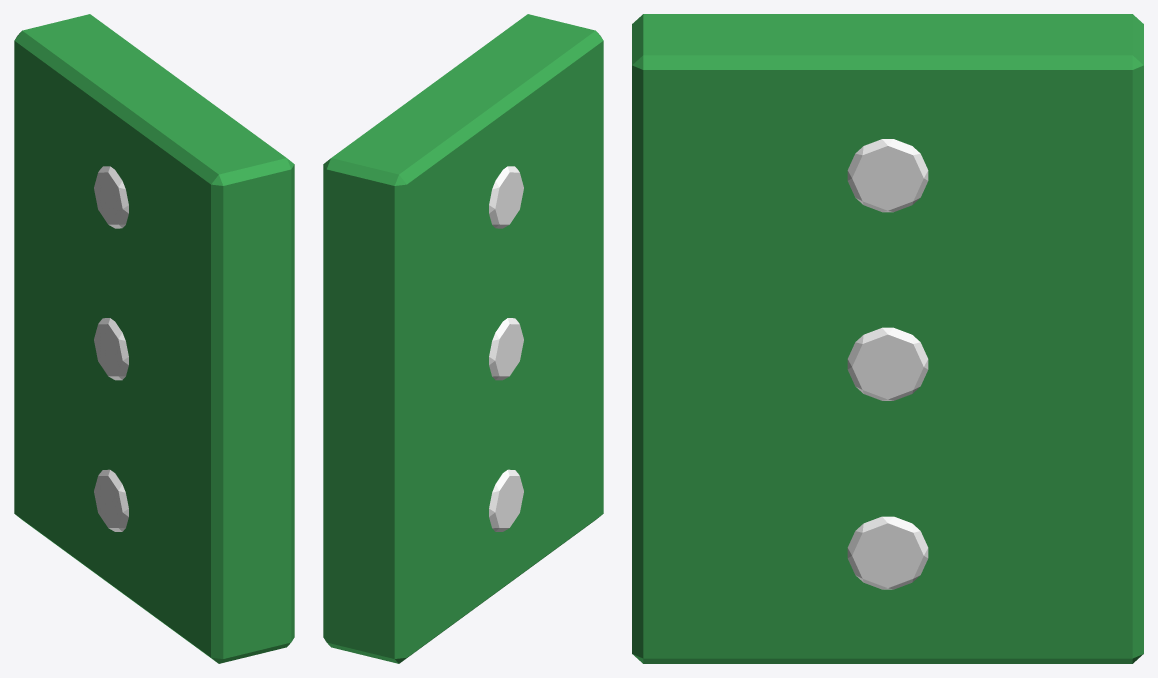
File: domino_wide.glb
The picture shows the model from 3 angles, left to right: view 1: azimuth 30°, elevation 25°; view 2: azimuth 150°, elevation 25°; view 3: azimuth 270°, elevation 25°; orthographic projection. The views are drawn at different scales.
Parts seen in each view (by area): view 1: domino_wide; view 2: domino_wide; view 3: domino_wide.
Boxes of the visible parts, x1,y1,x2,y2 form: domino_wide: [14, 14, 294, 663]; domino_wide: [323, 14, 603, 663]; domino_wide: [632, 14, 1143, 663].
Size of the model in its own units: 0.083 by 0.42 by 0.32.
